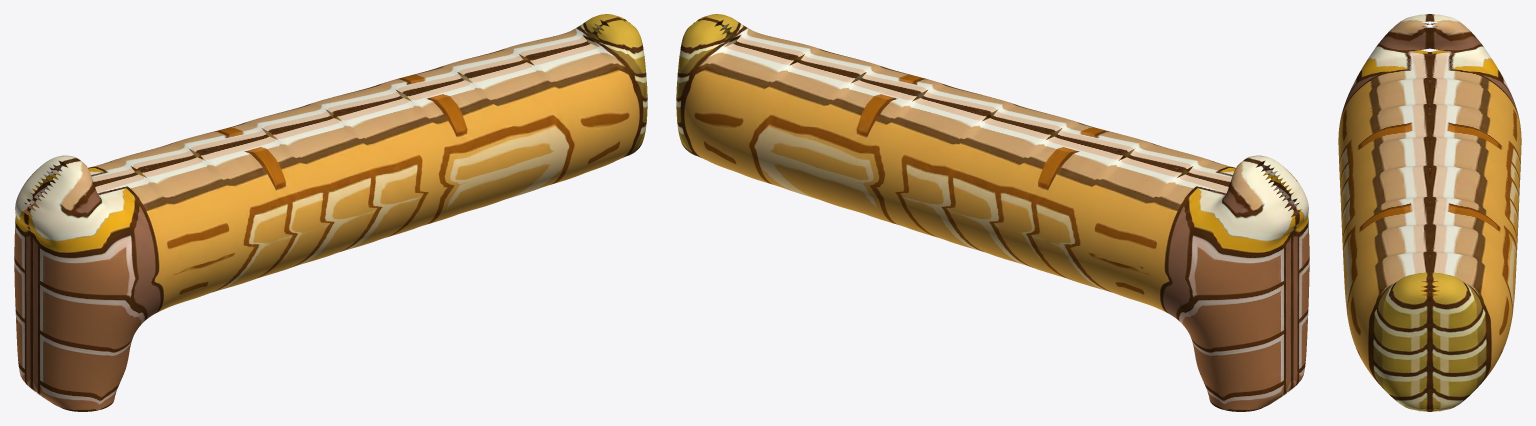
File: west_guardwall.glb
3 views of the same model, side by side, from view 1: azimuth 30°, elevation 25°; view 2: azimuth 150°, elevation 25°; view 3: azimuth 270°, elevation 25° (orthographic).
Visible parts, largest first — view 1: west_guardwall; view 2: west_guardwall; view 3: west_guardwall.
Boxes of the visible parts, <box> form: west_guardwall: <box>14,14,647,411</box>; west_guardwall: <box>676,14,1309,411</box>; west_guardwall: <box>1338,14,1521,411</box>.
Bounding box in the file's own units: 0.989 × 0.3671 × 0.2553.
1 material, 1 textured.
